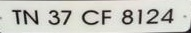character: (80, 9, 99, 25), (22, 9, 39, 25), (144, 7, 159, 25), (160, 7, 174, 24), (120, 9, 134, 25), (100, 9, 112, 27), (10, 9, 23, 25), (60, 9, 72, 26), (47, 9, 59, 25), (136, 7, 143, 25)
